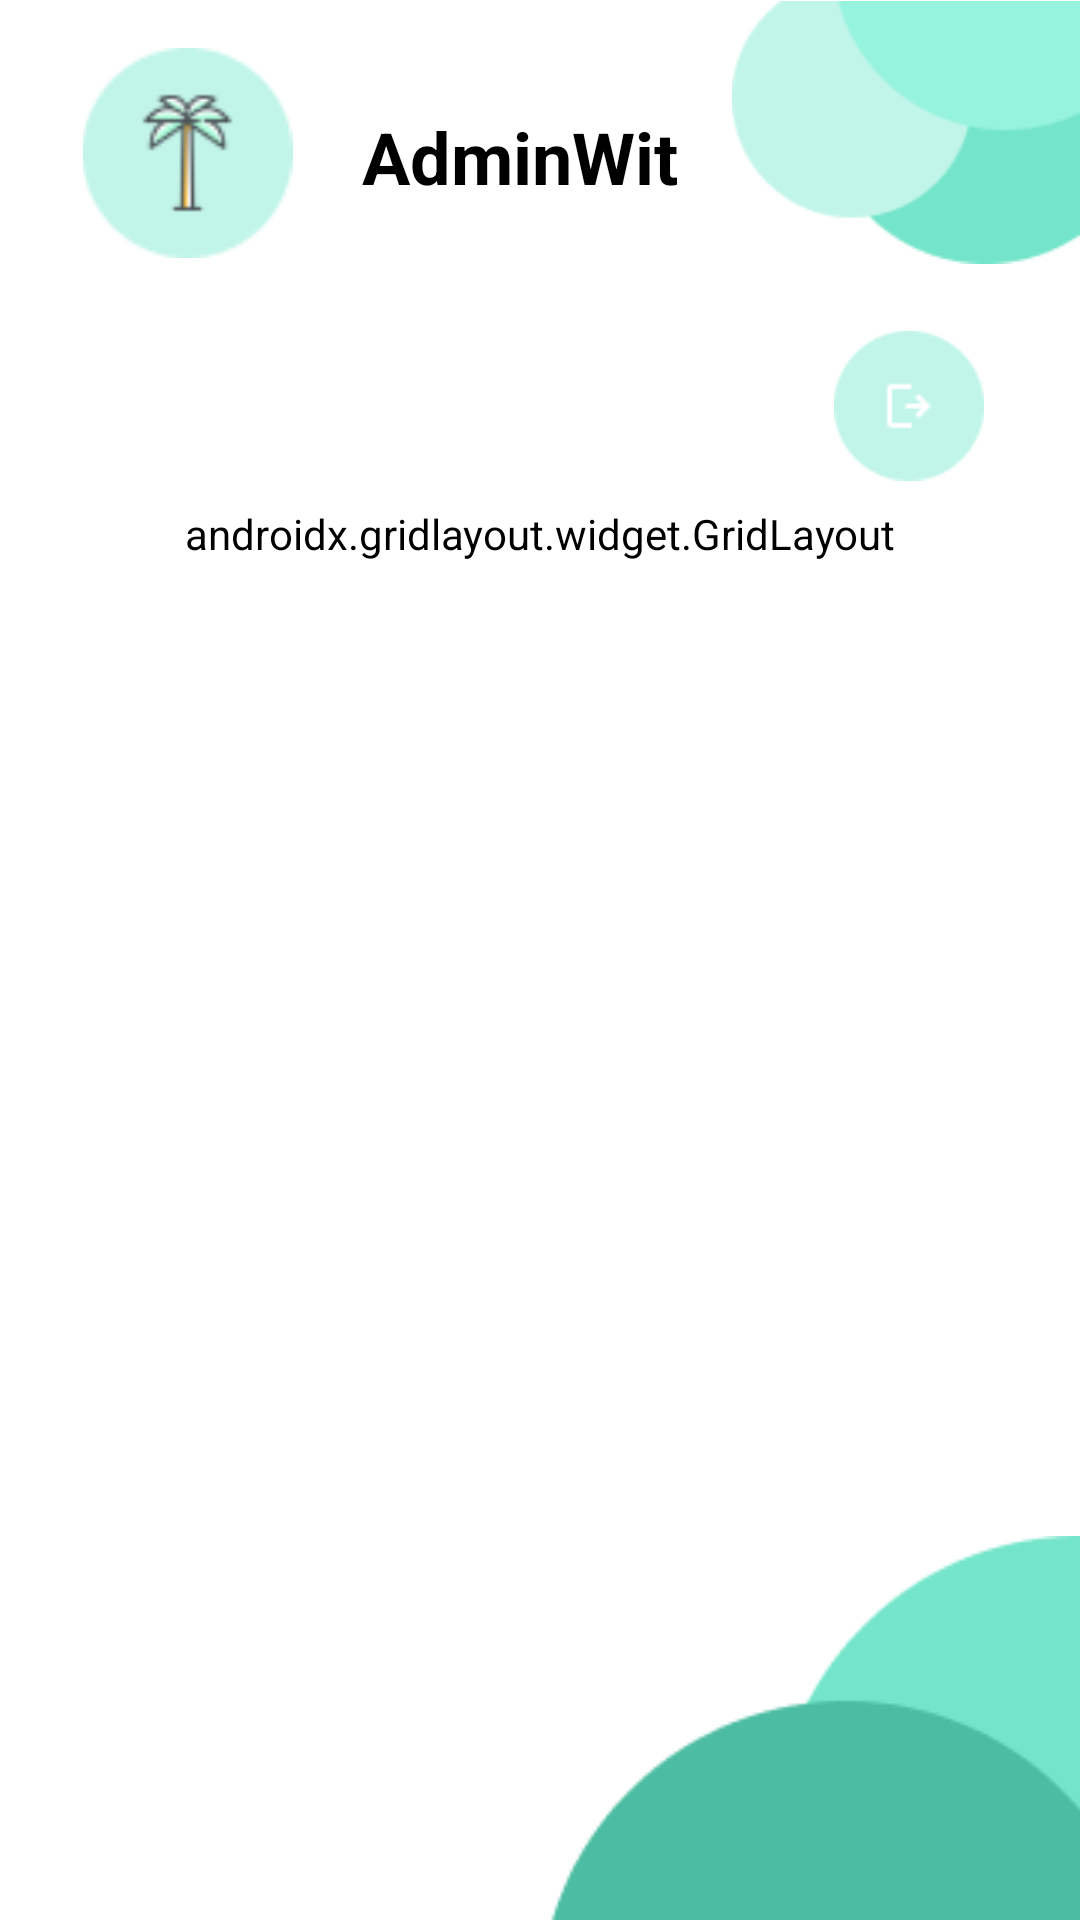

Point at icon controls on the screen. Image size 1080*1920, points as (x=x, y=y).
pohon: (x=188, y=153)
